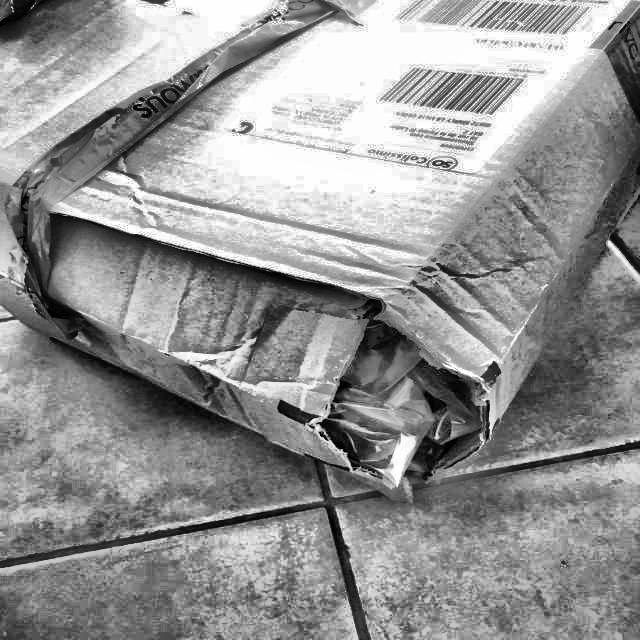box: (0, 0, 639, 508)
hole: (324, 308, 494, 490)
